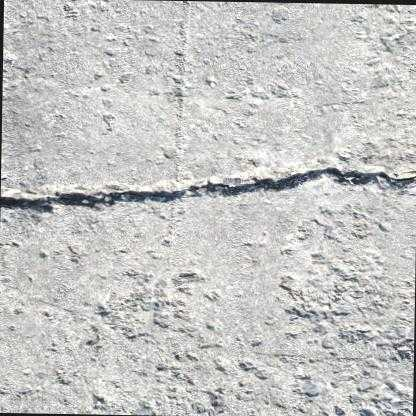crack: (0, 161, 416, 211)
